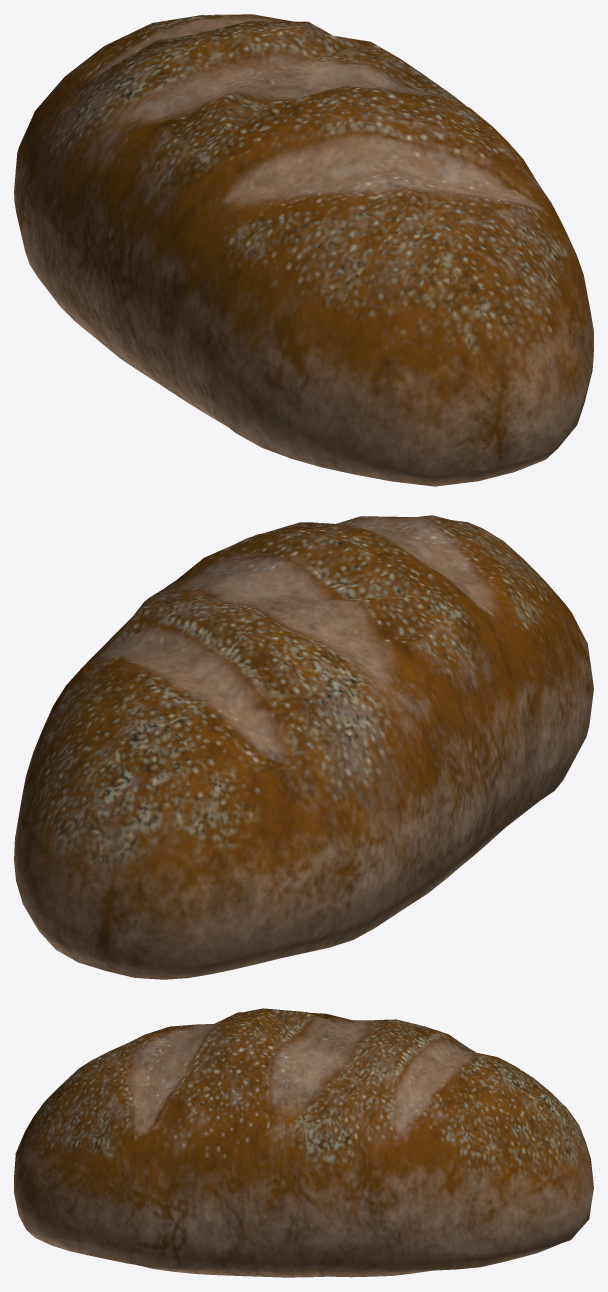
File: Bread_21_grainbread_c_mesh.obj
3 renders of one model, top to bottom at view 1: azimuth 30°, elevation 25°; view 2: azimuth 150°, elevation 25°; view 3: azimuth 270°, elevation 25°, orthographic. The views are drawn at different scales.
Size of the model in its own units: 0.1563 by 0.1138 by 0.2929.
